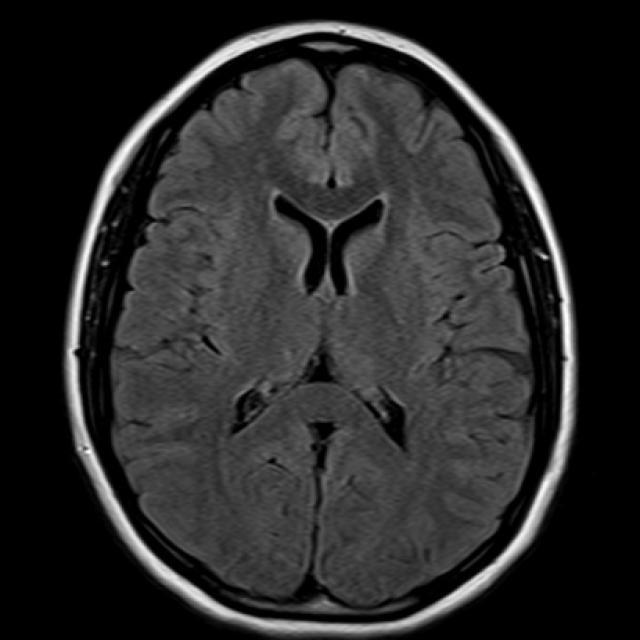notumor: (64, 23, 579, 633)
